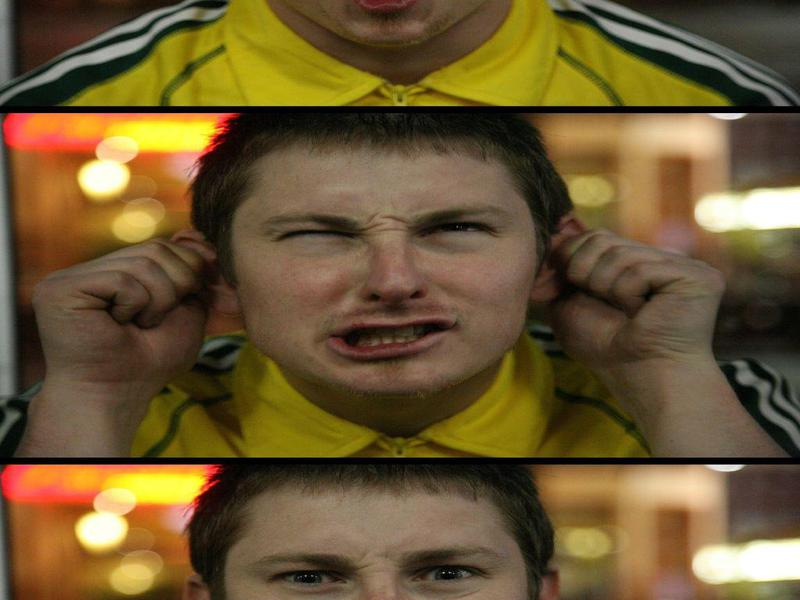person: (11, 111, 800, 458), (9, 4, 797, 105), (183, 458, 563, 599)
